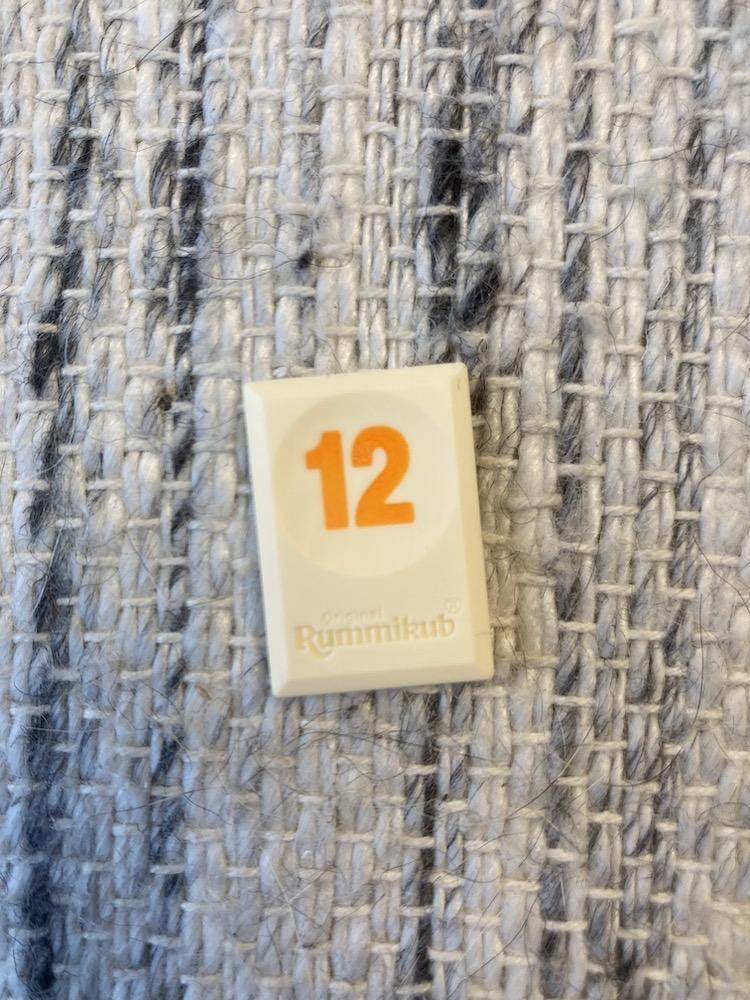orange_12: (244, 363, 494, 697)
